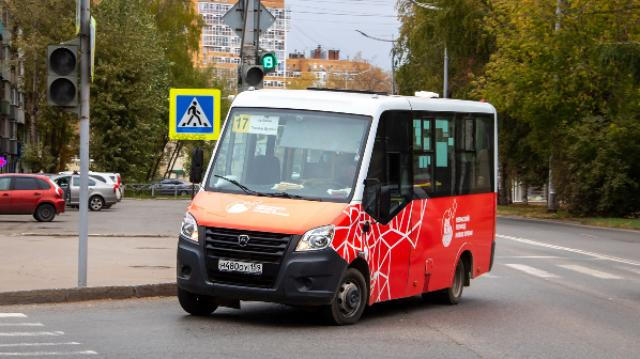non emergency car: (177, 87, 498, 327), (0, 174, 66, 222), (48, 174, 120, 212), (142, 180, 190, 198)
